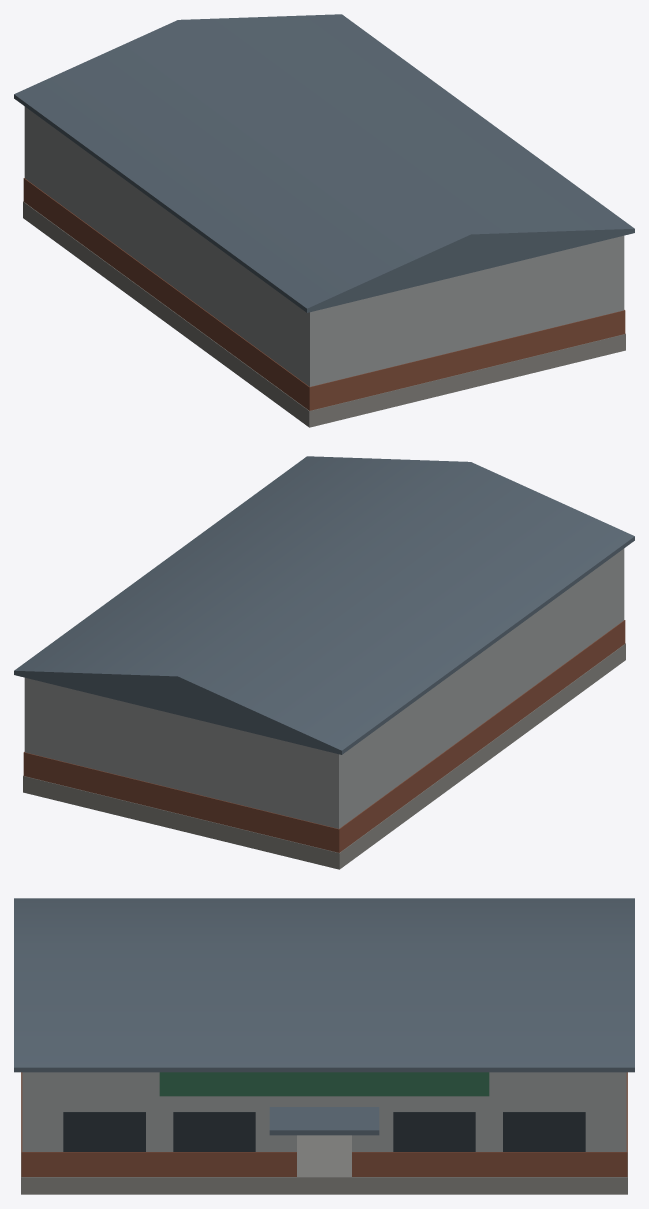
File: SM_Prop_cafe_building_18_LOD2.glb
3 renders of one model, top to bottom at view 1: azimuth 30°, elevation 25°; view 2: azimuth 150°, elevation 25°; view 3: azimuth 270°, elevation 25°, orthographic. The views are drawn at different scales.
Parts seen in each view (by area): view 1: SM_Prop_cafe_building_18_LOD2; view 2: SM_Prop_cafe_building_18_LOD2; view 3: SM_Prop_cafe_building_18_LOD2.
Boxes of the visible parts, box(x1,y1,x2,y2) form: SM_Prop_cafe_building_18_LOD2: box(14, 14, 634, 427); SM_Prop_cafe_building_18_LOD2: box(14, 456, 634, 869); SM_Prop_cafe_building_18_LOD2: box(14, 898, 634, 1194).
Size of the model in its own units: 16.3 by 6.68 by 22.6.
